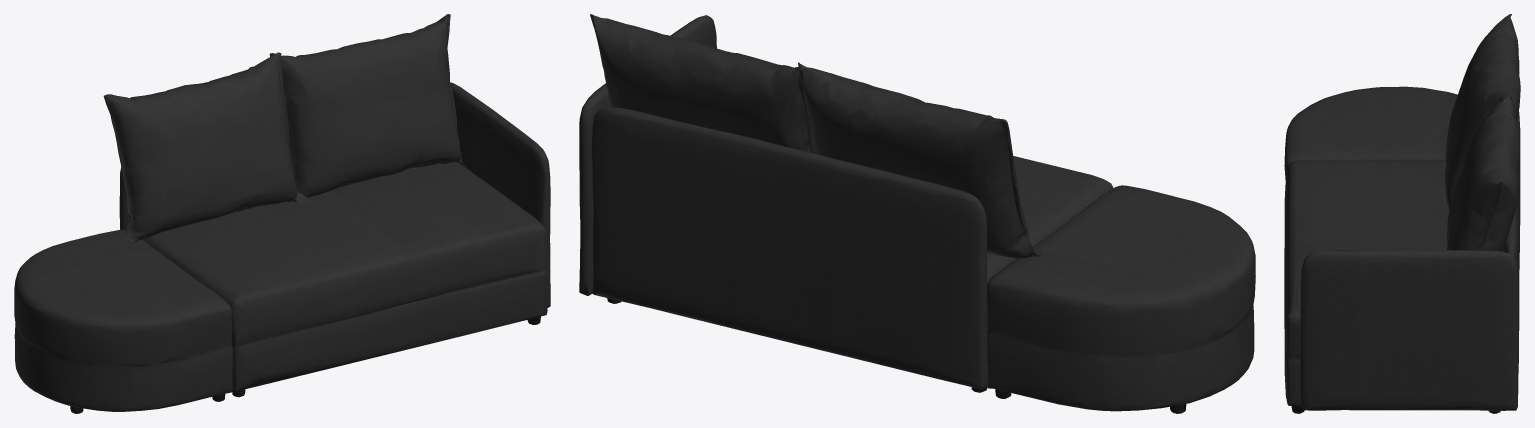
3 views of the same model, side by side, from view 1: azimuth 30°, elevation 25°; view 2: azimuth 150°, elevation 25°; view 3: azimuth 270°, elevation 25° (orthographic). The views are drawn at different scales.
Parts seen in each view (by area): view 1: 20582610-LINDÃƒâ€¦KRA001; view 2: 20582610-LINDÃƒâ€¦KRA001; view 3: 20582610-LINDÃƒâ€¦KRA001.
Part boxes in pixels (bbox=[...]): 20582610-LINDÃƒâ€¦KRA001: bbox=[14, 14, 550, 413]; 20582610-LINDÃƒâ€¦KRA001: bbox=[579, 14, 1255, 413]; 20582610-LINDÃƒâ€¦KRA001: bbox=[1284, 14, 1520, 413].
Bounding box in the file's own units: 2.04 × 0.9566 × 0.8549.
1 material, 1 textured.
